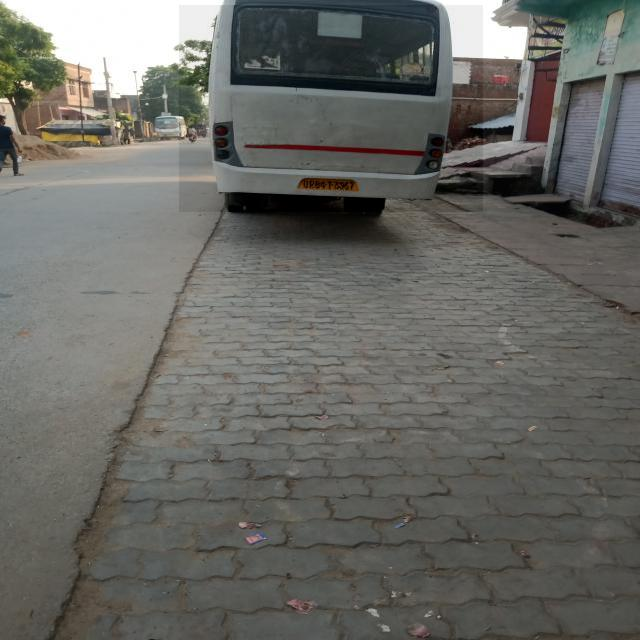Bus: (180, 5, 483, 212)
